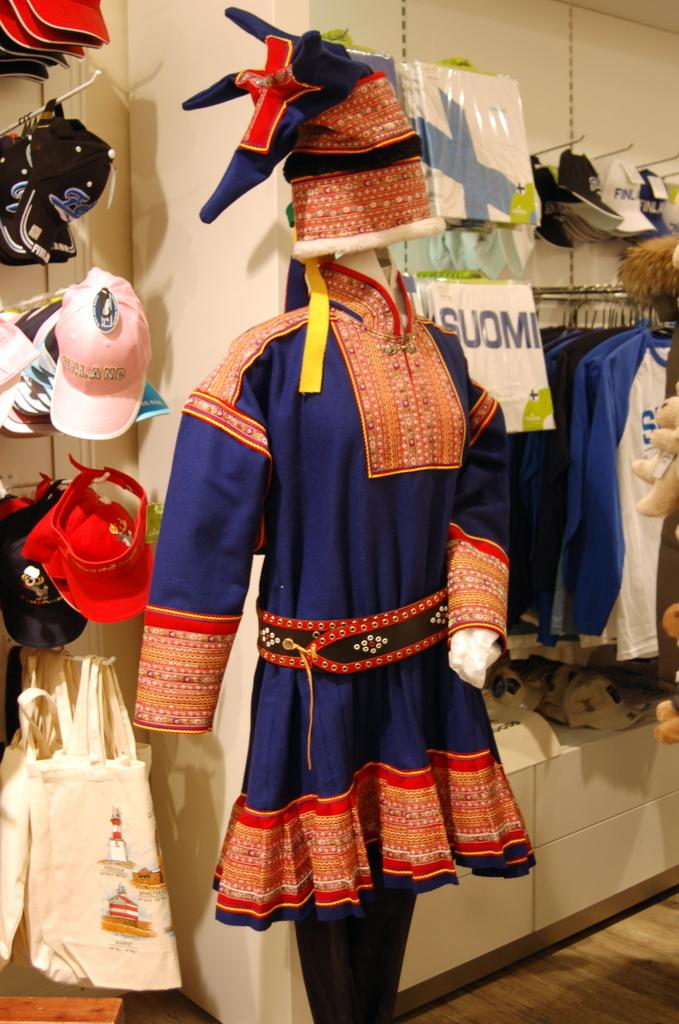Hat: (0, 264, 169, 440), (25, 448, 152, 621), (0, 96, 118, 273), (524, 146, 678, 250), (0, 465, 86, 649), (0, 0, 109, 84)
